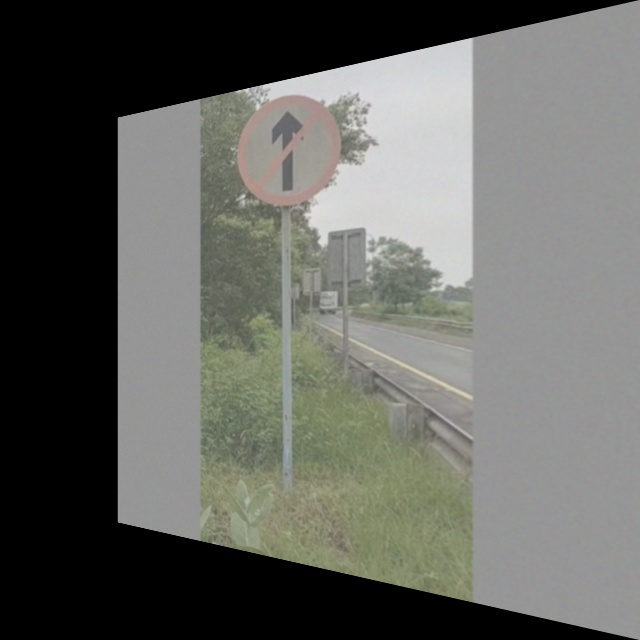No_Entry: (236, 85, 342, 209)
